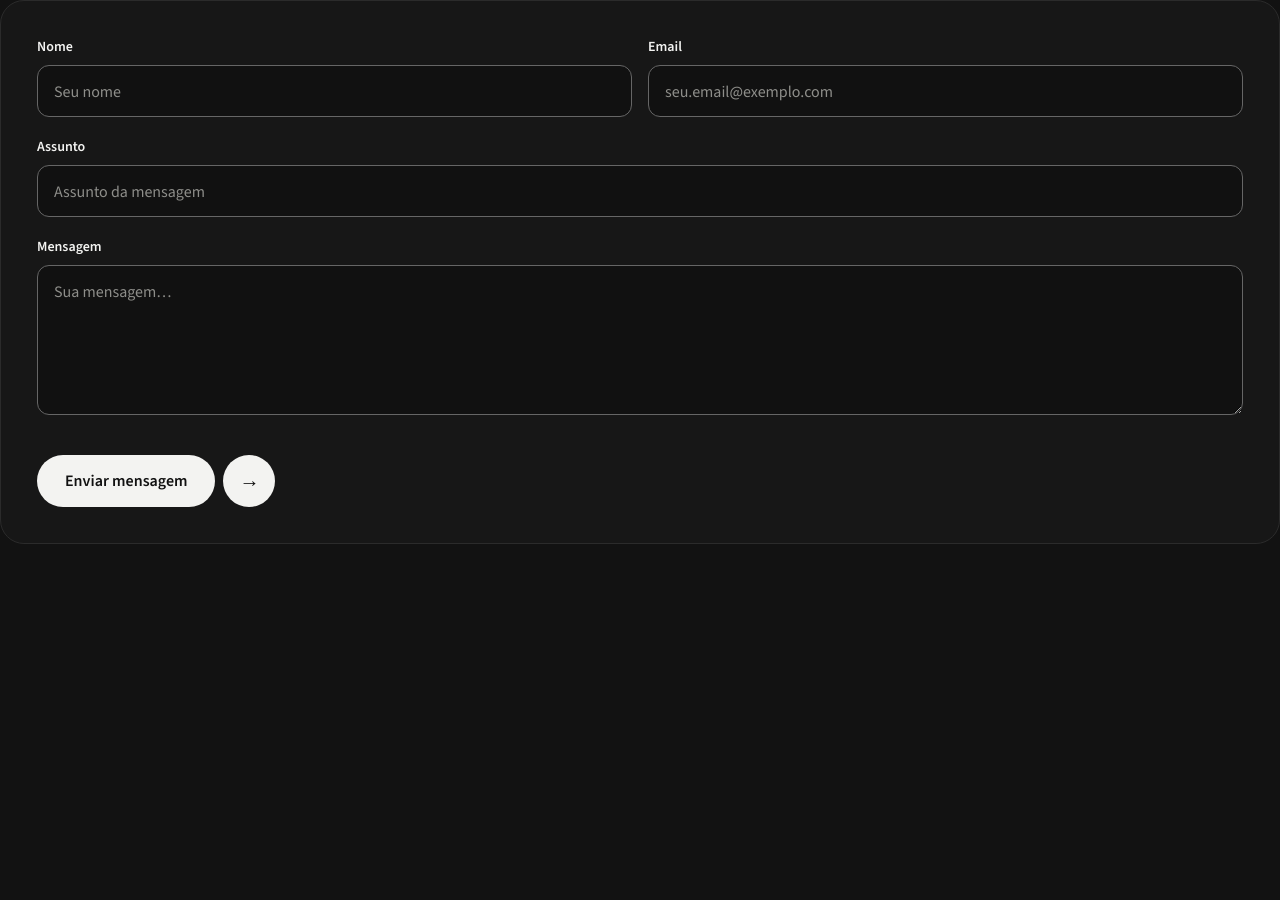
it: <ContactForm /> › fades field errors in from y -4 over 0.32s, keeping aria wiring (MOV-36)
The image size is (1280, 900).
Click the button "Enviar mensagem →".
click(156, 481)  # box [37,455,276,507]
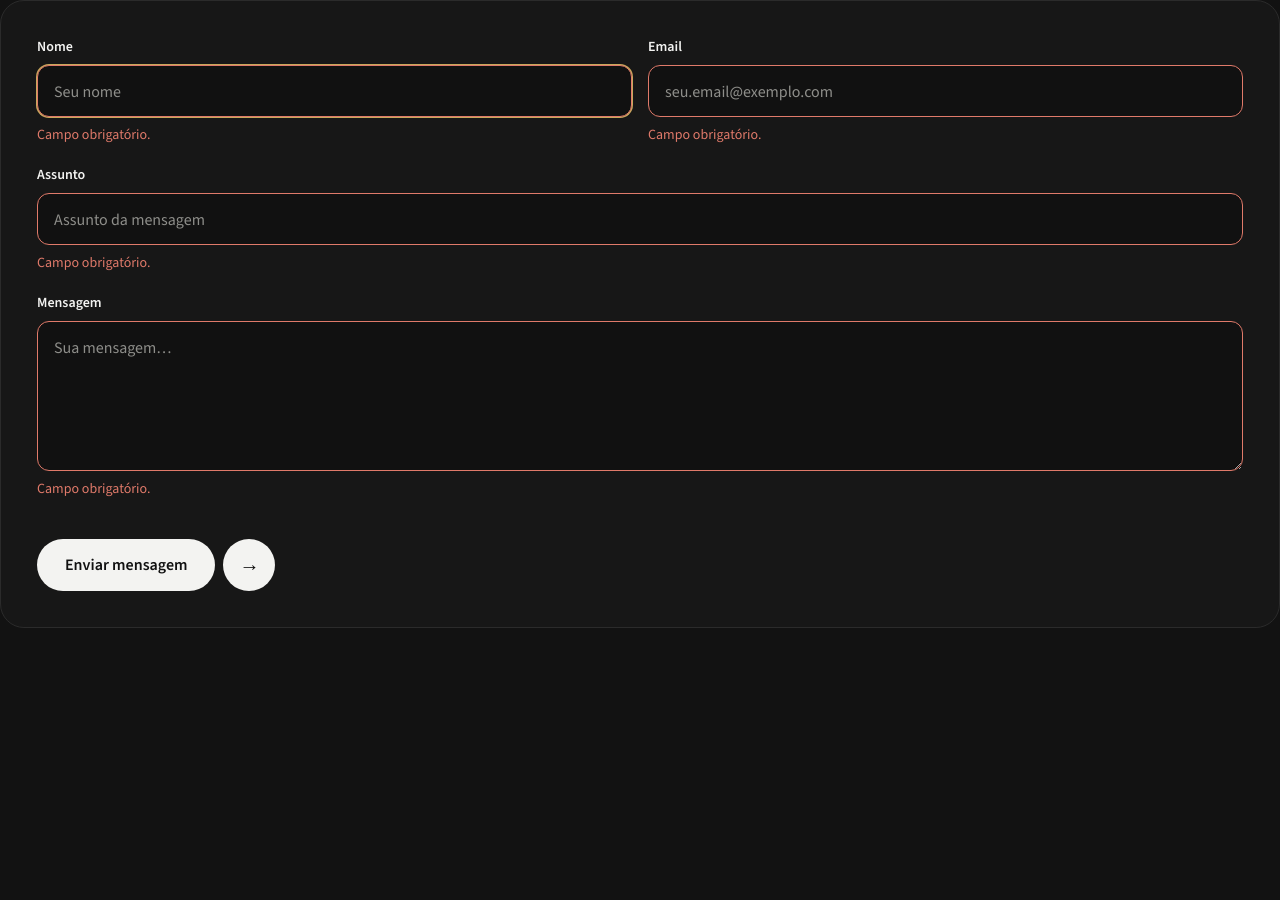
Check: the text with id "name-error" reads "Campo obrigatório.", box [37,125,150,144]
Check: the 4th text "Campo obrigatório." is shown, box [37,479,150,498]
